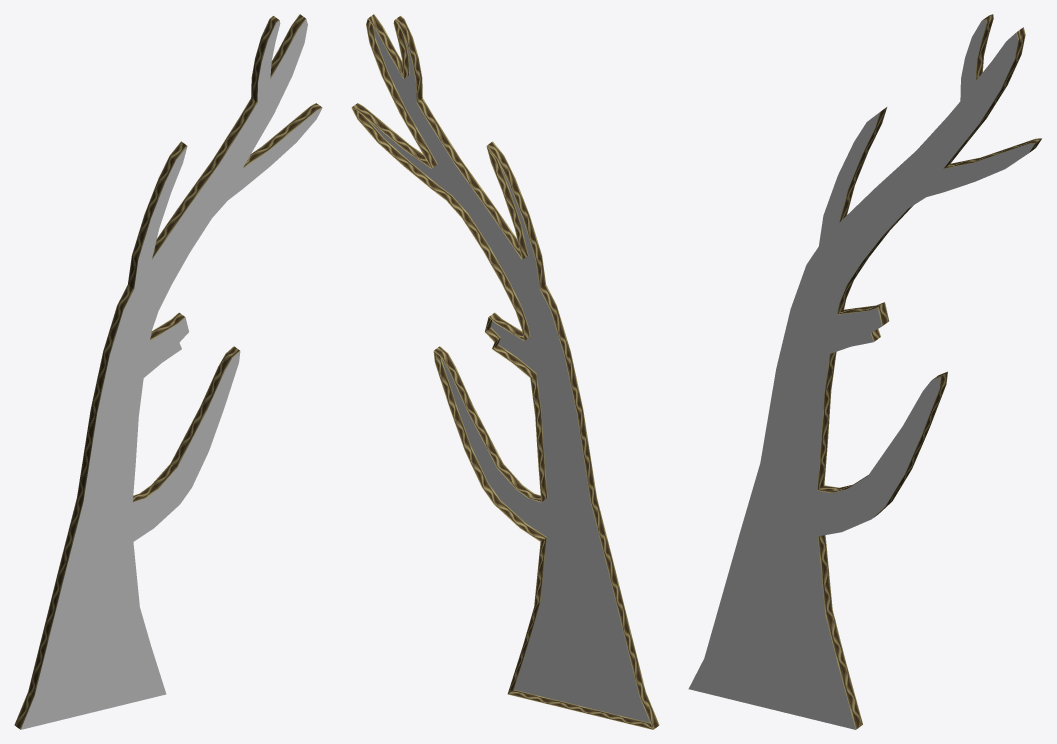
File: tree_02.fbx
3 renders of one model, left to right at view 1: azimuth 30°, elevation 25°; view 2: azimuth 150°, elevation 25°; view 3: azimuth 330°, elevation 25°, orthographic. The views are drawn at different scales.
Parts seen in each view (by area): view 1: tree_02; view 2: tree_02; view 3: tree_02.
Part boxes in pixels (x1,y1,x2,y2): tree_02: (14, 14, 322, 729); tree_02: (351, 14, 659, 729); tree_02: (688, 14, 1041, 729).
Size of the model in its own units: 2.15 by 4.41 by 0.0795.
